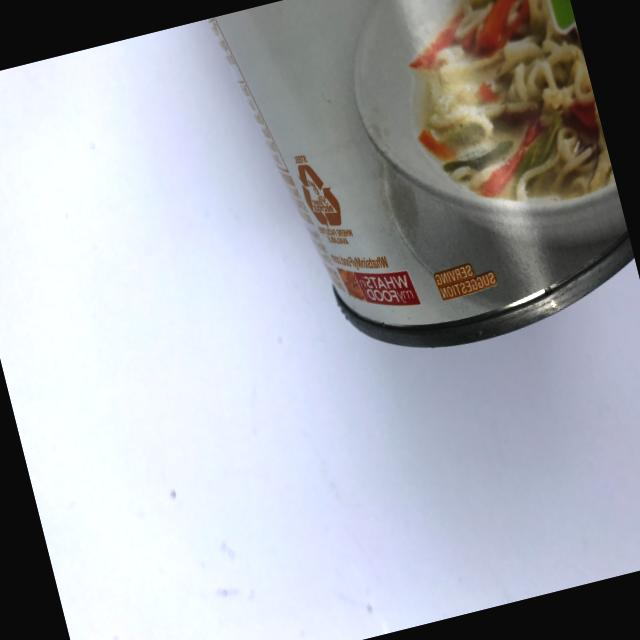Metal: (202, 0, 640, 414)
